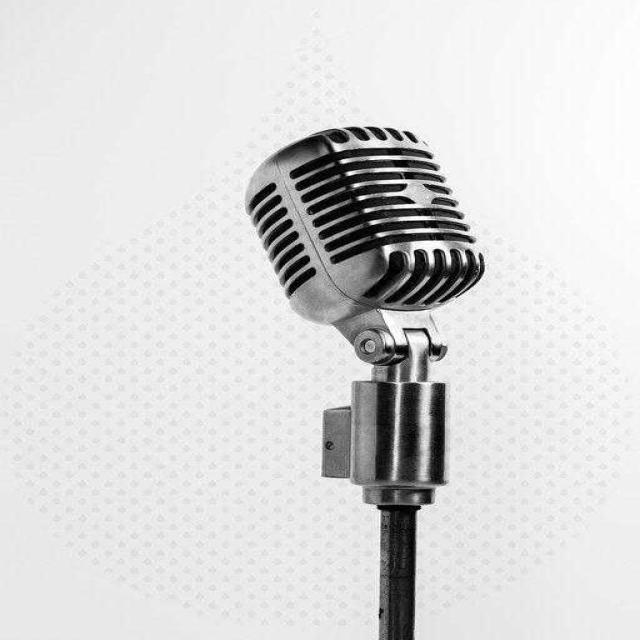microphone: (244, 128, 481, 330)
